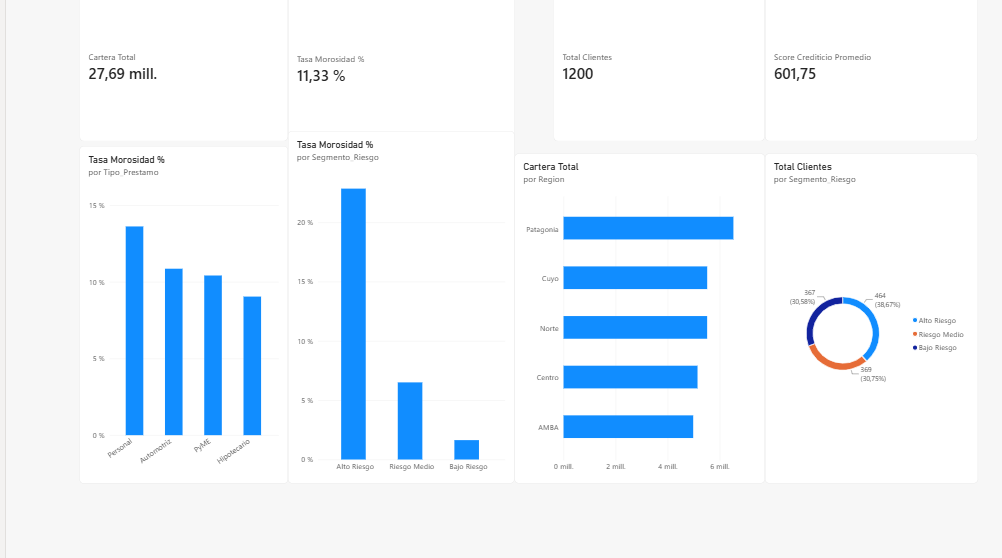

Layout of this report page (visuals, bound fields, positions):
{"tool":"powerbi","page":{"name":"Página 1","canvas":[1920,1080],"ordinal":0},"visuals":[{"type":"cardVisual","fields":{"Data":["Sheet1.Cartera Total"]},"box":[138.9,0,394,280.6],"z":0},{"type":"cardVisual","fields":{"Data":["Sheet1.Tasa Morosidad %"]},"box":[532.9,2.8,428,280.6],"z":1},{"type":"cardVisual","fields":{"Data":["Avg(Sheet1.Score_Crediticio)"]},"box":[1434.3,0,402.5,280.6],"z":3},{"type":"cardVisual","fields":{"Data":["Sheet1.Total Clientes"]},"box":[1034.7,0,399.7,280.6],"z":4},{"type":"clusteredColumnChart","fields":{"Category":["Sheet1.Tipo_Prestamo"],"Y":["Sheet1.Tasa Morosidad %"]},"box":[138.9,289.1,394,637.8],"z":5},{"type":"columnChart","fields":{"Category":["Sheet1.Segmento_Riesgo"],"Y":["Sheet1.Tasa Morosidad %"]},"box":[532.9,260.8,428,666.1],"z":6},{"type":"barChart","fields":{"Category":["Sheet1.Region"],"Y":["Sheet1.Cartera Total"]},"box":[961,303.3,473.4,623.6],"z":7},{"type":"donutChart","fields":{"Category":["Sheet1.Segmento_Riesgo"],"Y":["Sheet1.Total Clientes"]},"box":[1434.3,303.3,402.5,623.6],"z":8}]}

Visuals, with their boxes in screenshot pixels (x1, y1, x2, y2), scaled from the page's 1920x1080 canvas onto the 1002x558 screenshot:
cardVisual - Sheet1.Cartera Total: (72,0,278,145)
cardVisual - Sheet1.Tasa Morosidad %: (278,1,501,146)
cardVisual - Avg(Sheet1.Score_Crediticio): (749,0,959,145)
cardVisual - Sheet1.Total Clientes: (540,0,749,145)
clusteredColumnChart - Sheet1.Tipo_Prestamo x Sheet1.Tasa Morosidad %: (72,149,278,479)
columnChart - Sheet1.Segmento_Riesgo x Sheet1.Tasa Morosidad %: (278,135,501,479)
barChart - Sheet1.Region x Sheet1.Cartera Total: (502,157,749,479)
donutChart - Sheet1.Segmento_Riesgo x Sheet1.Total Clientes: (749,157,959,479)
